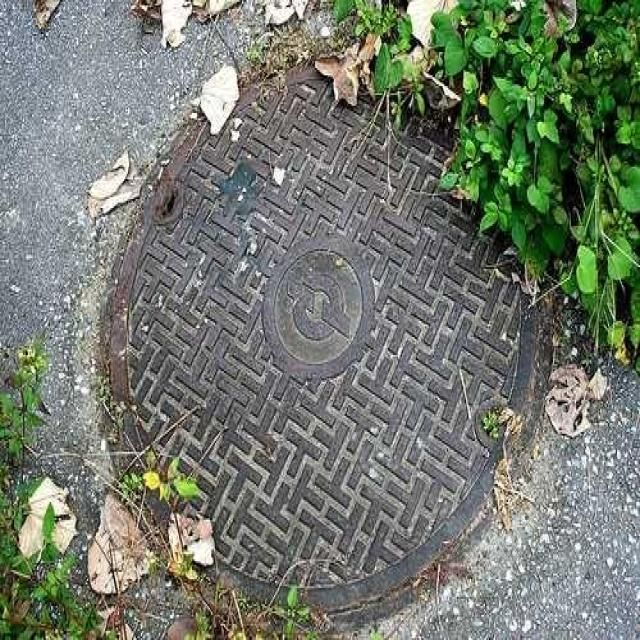manhole: (111, 72, 538, 607)
